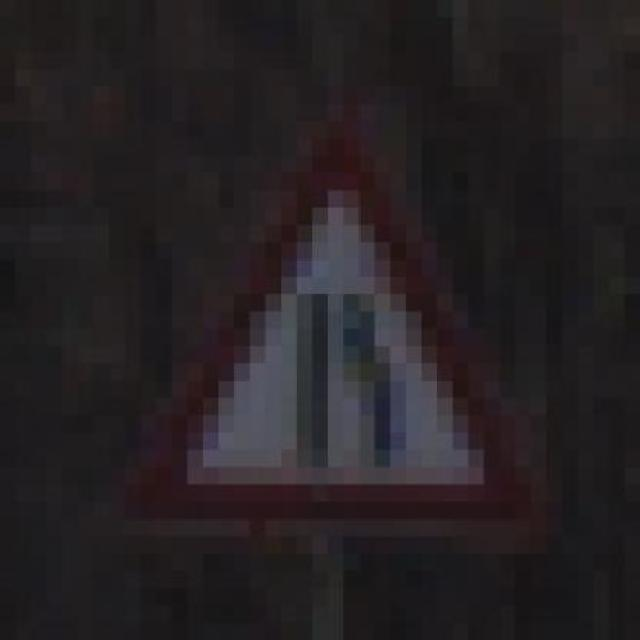-Road narrows on right: (94, 86, 546, 554)
